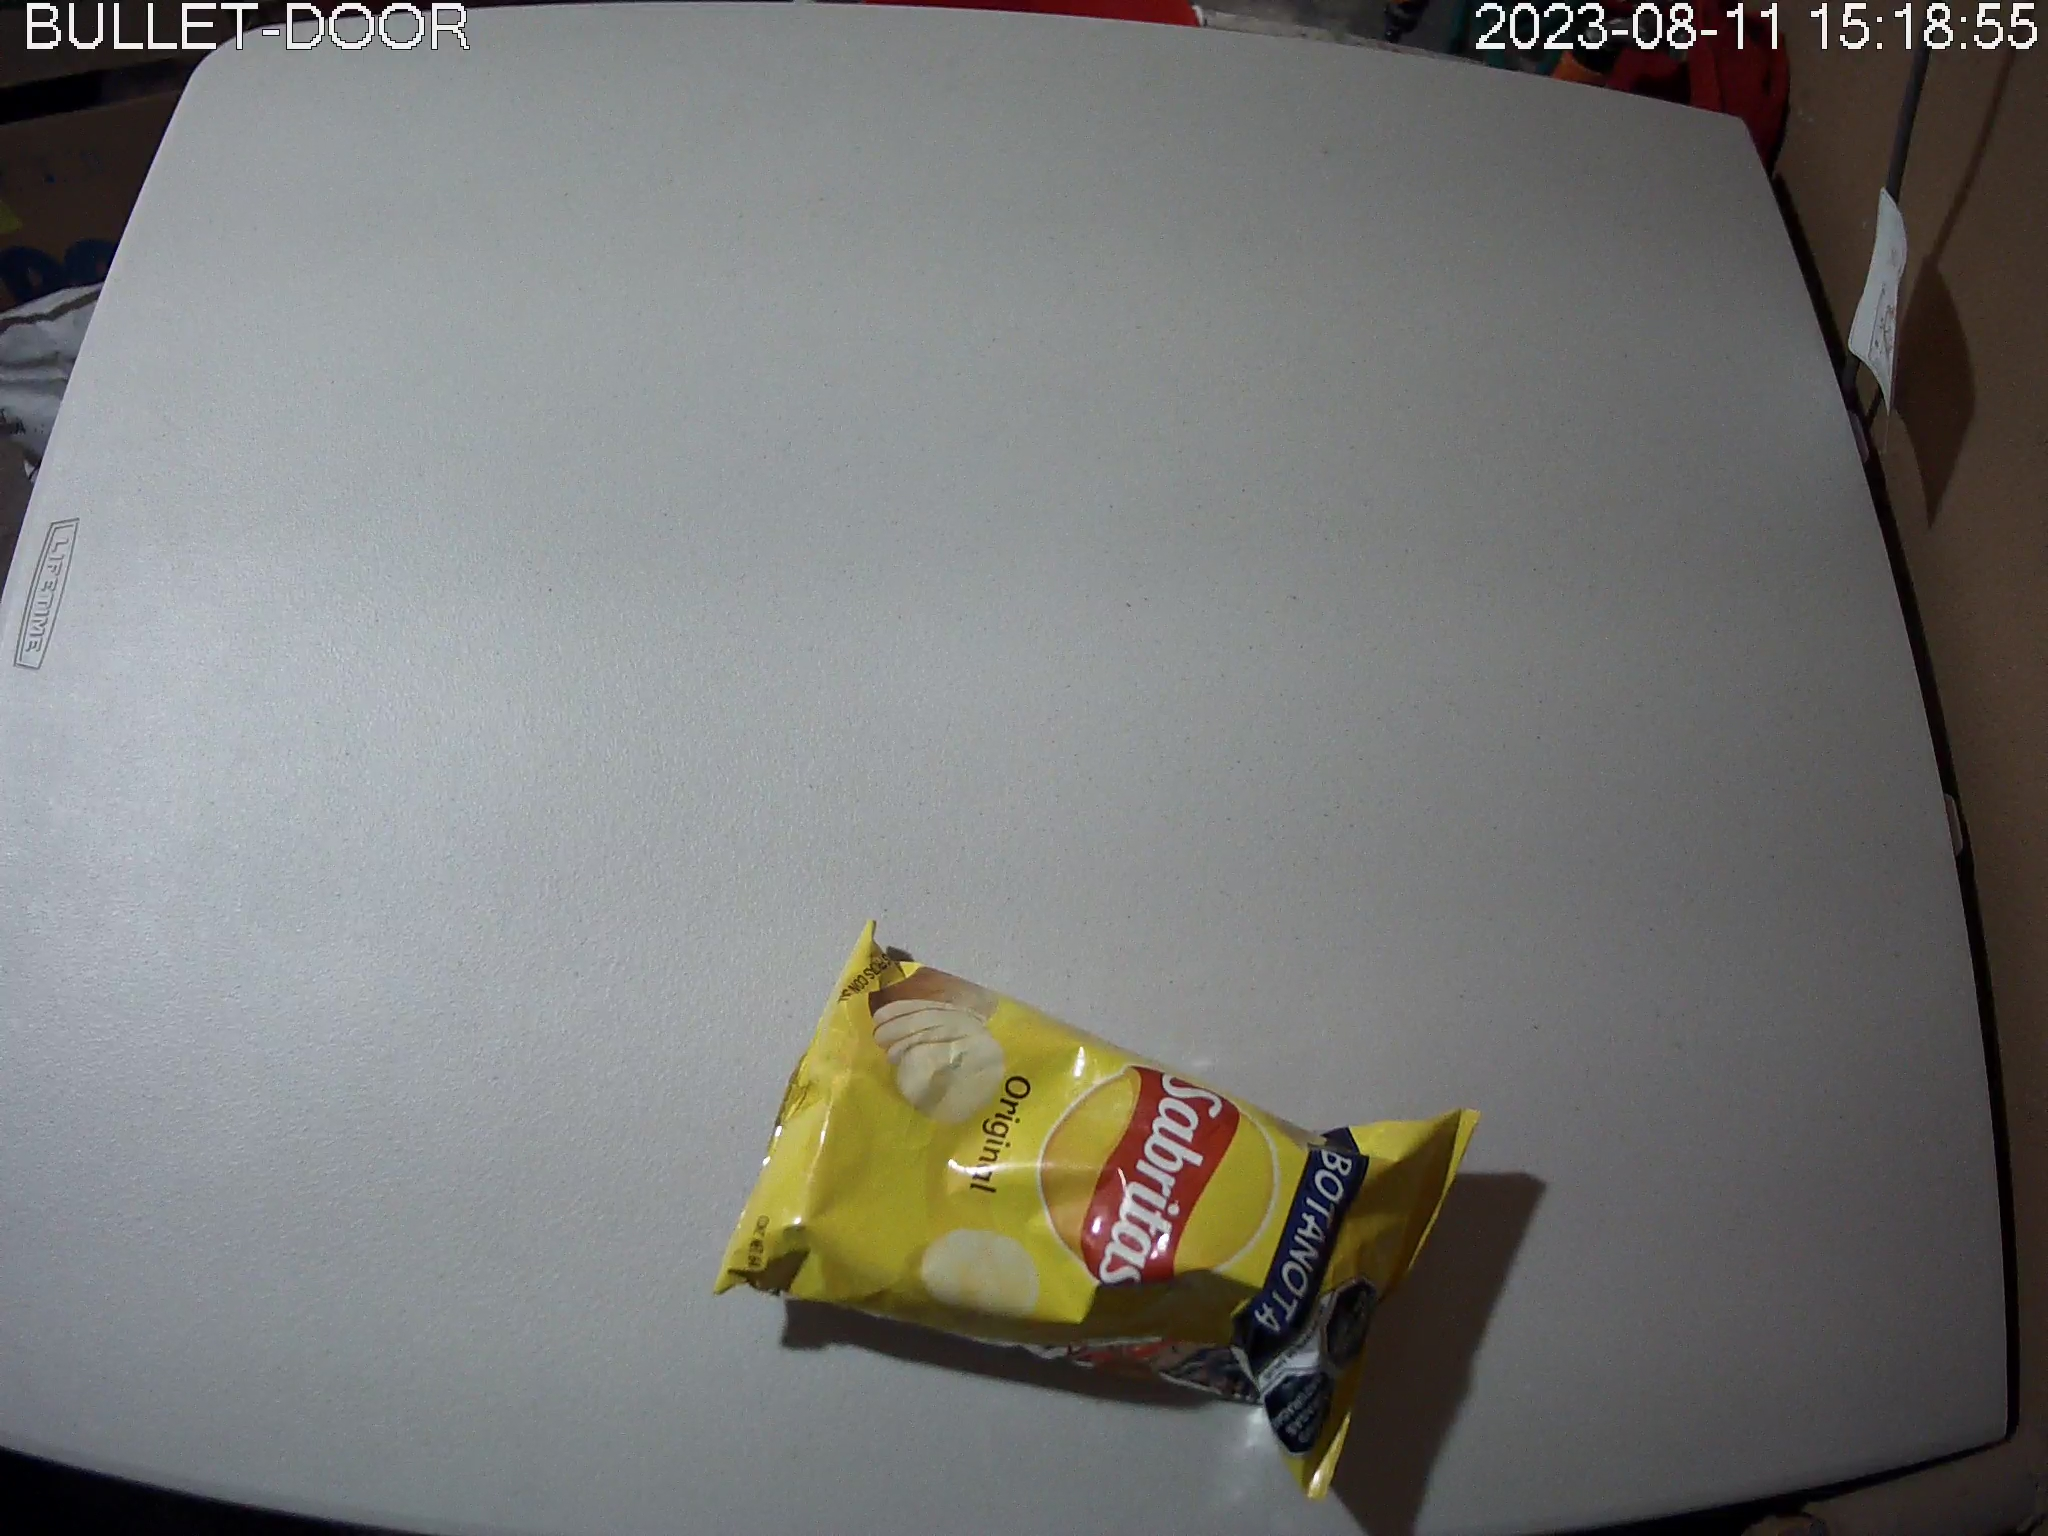Sabritas_64_F: (716, 912, 1484, 1502)
